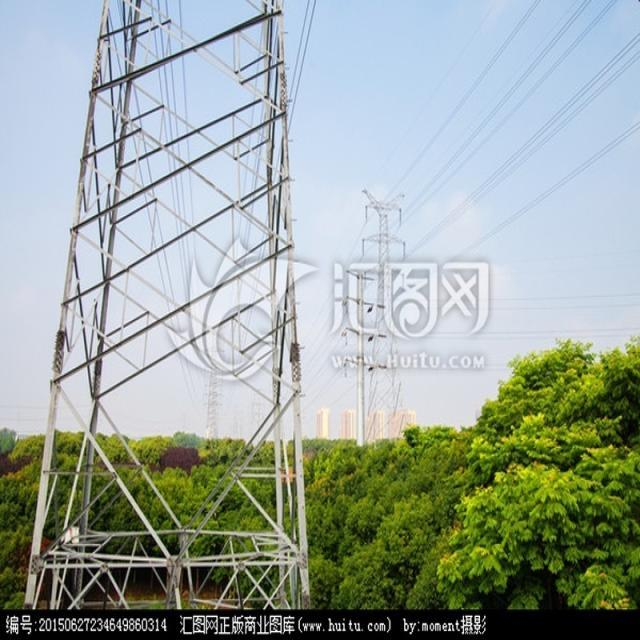non-critical vegetation: (24, 2, 314, 613)
